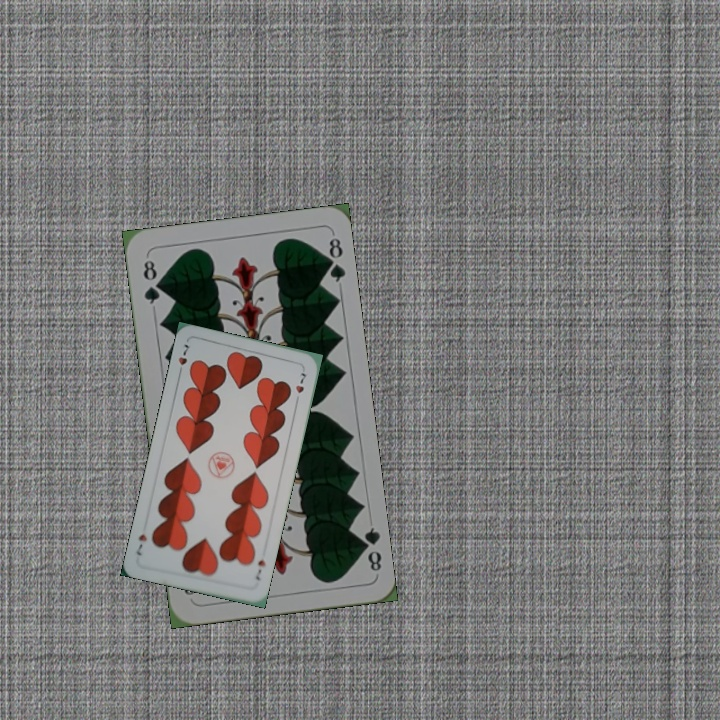G8: (354, 523, 384, 574), (139, 256, 164, 307)
H7: (174, 340, 192, 378), (252, 556, 268, 583)
